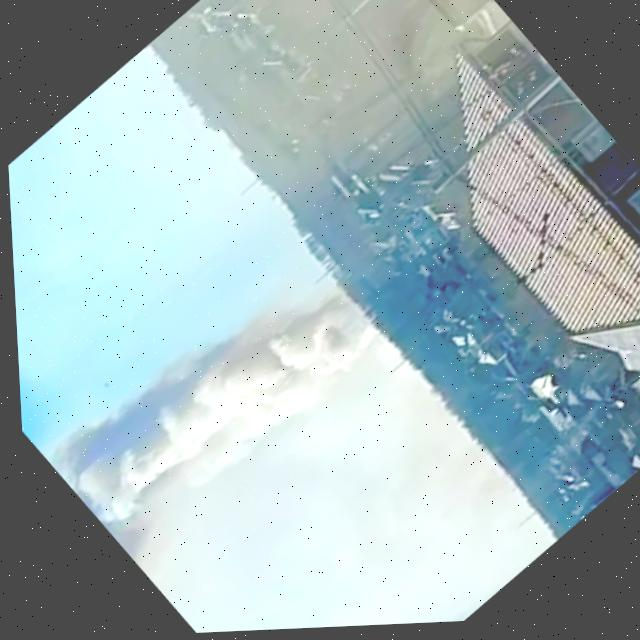Smoke: (31, 248, 396, 588)
